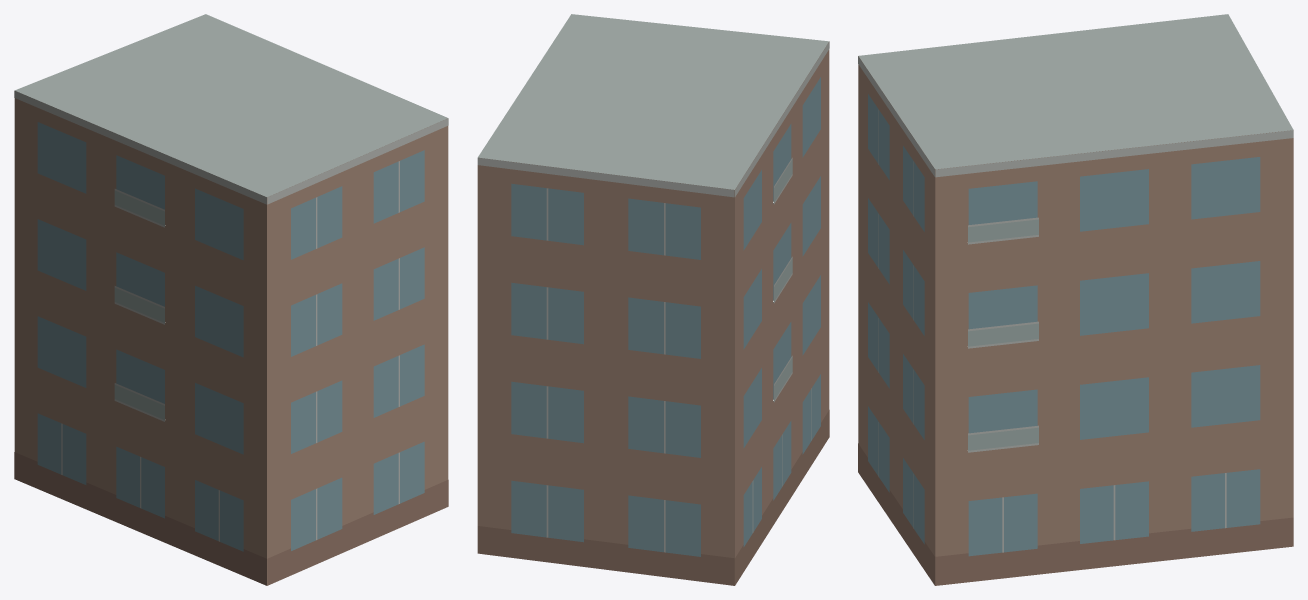
File: survey-upis-32654540.glb
3 views of the same model, side by side, from view 1: azimuth 30°, elevation 25°; view 2: azimuth 150°, elevation 25°; view 3: azimuth 270°, elevation 25° (orthographic). The views are drawn at different scales.
Parts seen in each view (by area): view 1: survey-upis-32654540.tmp; view 2: survey-upis-32654540.tmp; view 3: survey-upis-32654540.tmp.
Boxes of the visible parts, x1,y1,x2,y2 form: survey-upis-32654540.tmp: [14, 14, 448, 585]; survey-upis-32654540.tmp: [477, 14, 829, 585]; survey-upis-32654540.tmp: [858, 14, 1293, 585].
Size of the model in its own units: 10.26 by 12.8 by 12.14.
